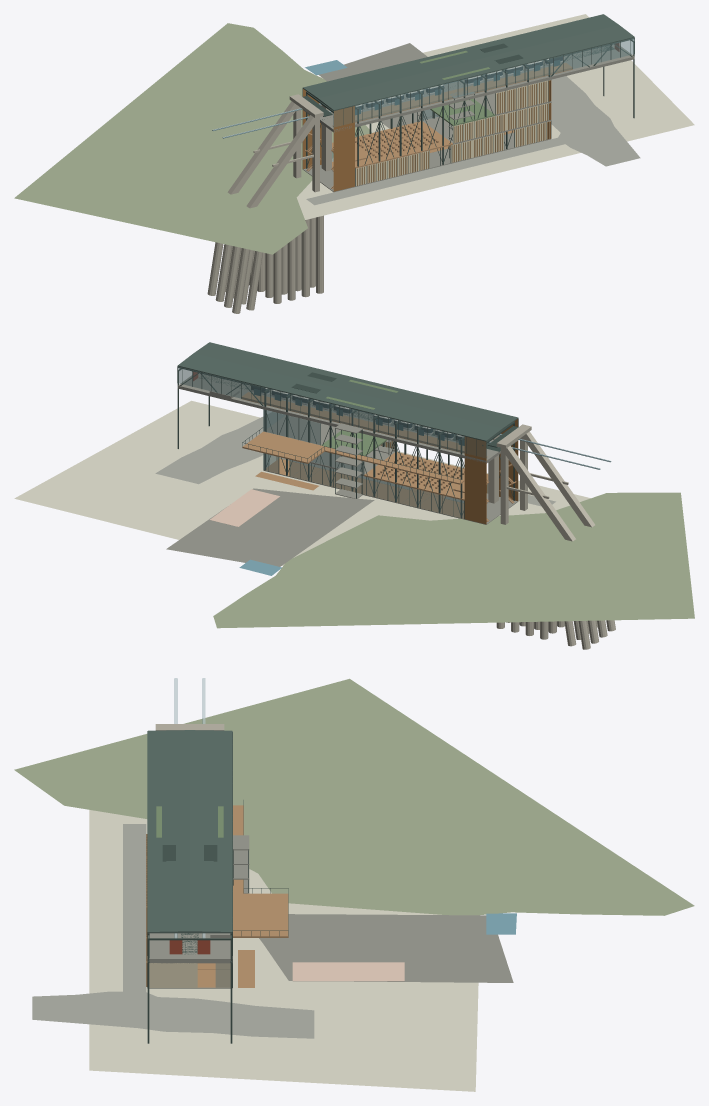
The picture shows the model from 3 angles, top to bottom: view 1: azimuth 30°, elevation 25°; view 2: azimuth 150°, elevation 25°; view 3: azimuth 270°, elevation 25°; orthographic projection. The views are drawn at different scales.
Parts seen in each view (by area): view 1: site, roof, platform, foundations, middle, ground, anchor, core, structure, canopy, vehicles, furnishing; view 2: site, roof, platform, canopy, core, ground, anchor, structure, middle, foundations, vehicles, furnishing; view 3: site, roof, canopy, platform, ground, structure, core.
Boxes of the visible parts, x1,y1,x2,y2 form: site: (14,14,694,254); roof: (302,14,634,110); platform: (302,38,634,132); foundations: (207,215,323,313); middle: (332,102,551,168); ground: (302,121,551,192); anchor: (227,94,332,208); core: (302,89,475,191); structure: (306,38,634,168); canopy: (430,79,551,126); vehicles: (355,57,562,111); furnishing: (355,123,438,157); site: (14,400,694,628); roof: (177,342,518,441); platform: (177,366,518,463); canopy: (242,409,464,484); core: (335,419,518,524); ground: (263,453,518,524); anchor: (487,424,594,541); structure: (177,367,514,517); middle: (310,441,488,500); foundations: (496,620,615,649); vehicles: (251,386,464,441); furnishing: (377,455,464,490); site: (14,678,694,1091); roof: (147,730,232,933); canopy: (146,800,288,937); platform: (147,732,232,962); ground: (146,834,232,988); structure: (147,933,232,1043); core: (233,835,249,893).
Bounding box in the file's own units: 174 × 49.31 × 122.
